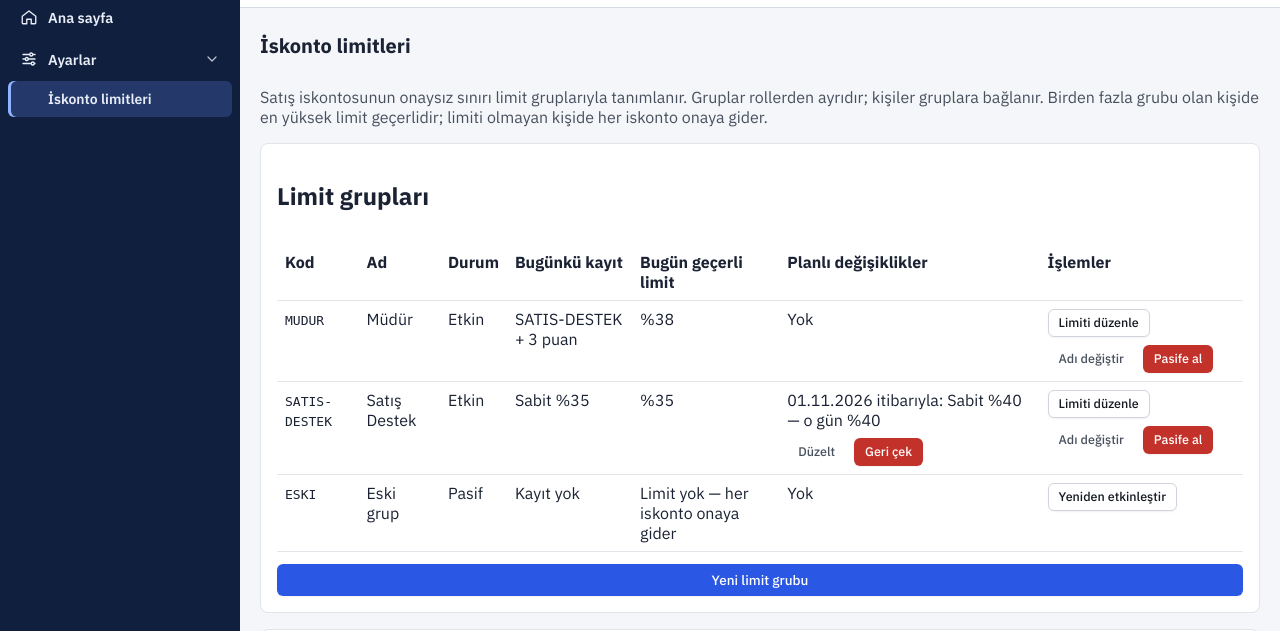
Test case: İskonto limitleri — groups › records a linked limit (group + extra points) with the version as text, and shows a cycle refusal
Expected: the table named "Limit grupları ve limitleri" is shown, [277,244,1243,552]
Click the button "Limiti düzenle" in the row of "Satış Destek": [1099, 404] box [1048,390,1150,418]
(page scrolled)
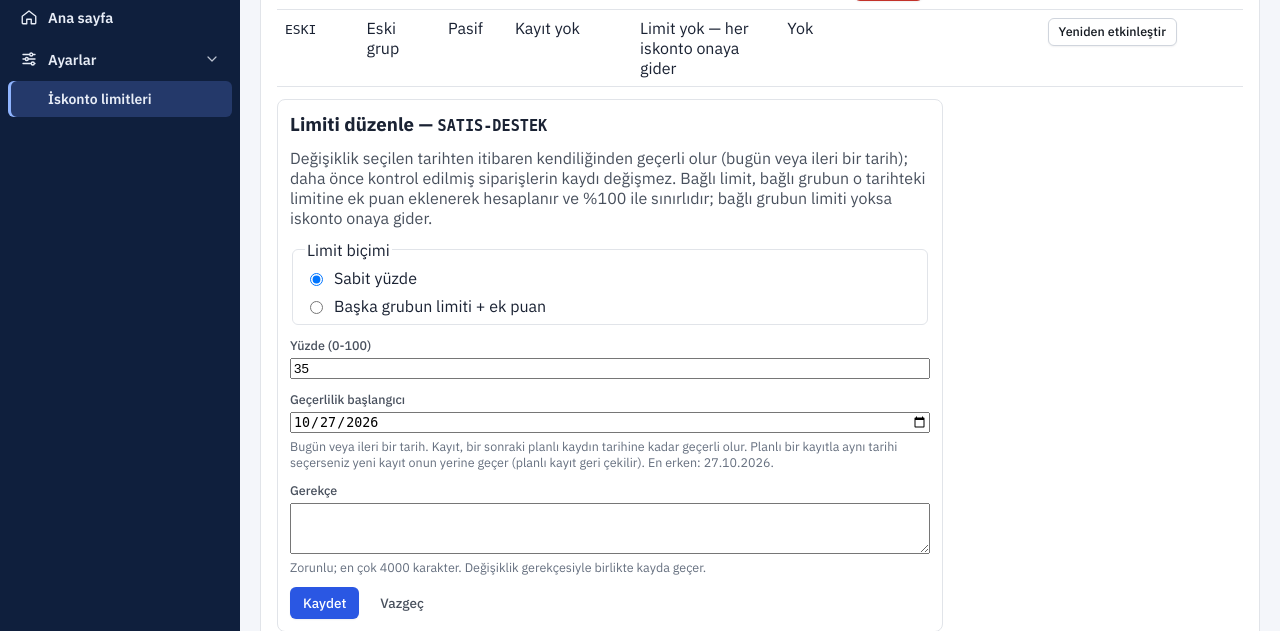
Click the radio button labelled "Başka grubun limiti + ek puan": [316, 307] box [310,301,323,314]
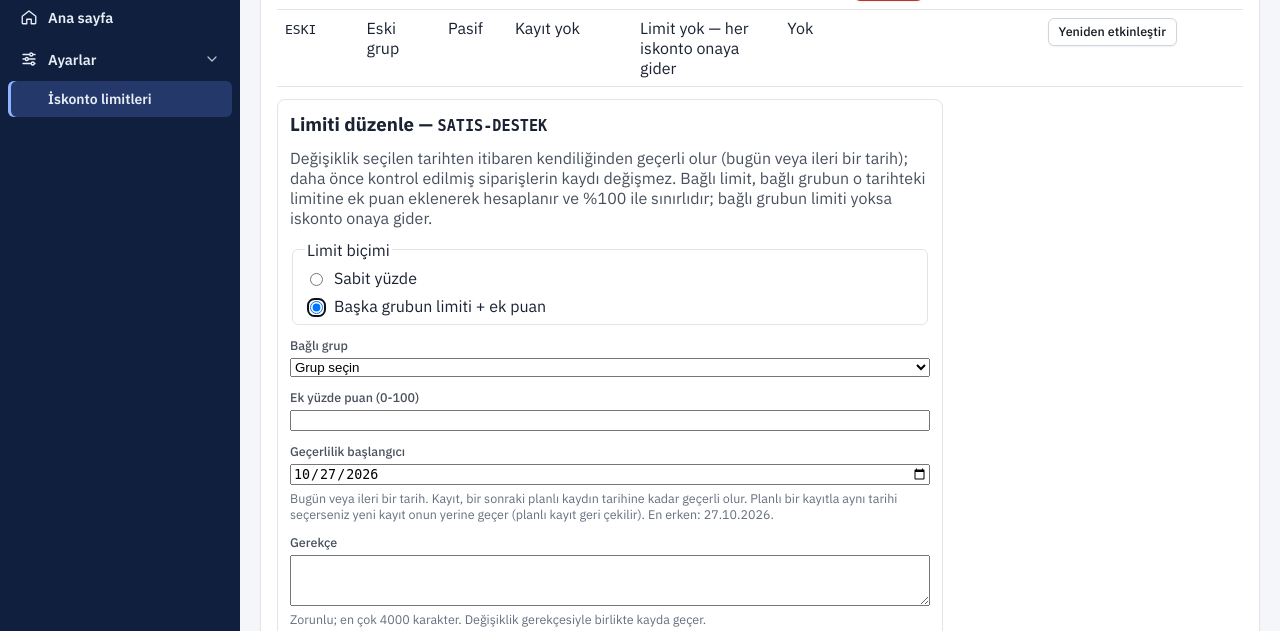
Select "MUDUR — Müdür" in the dropdown labelled "Bağlı grup": [610, 367] box [290,358,930,377]
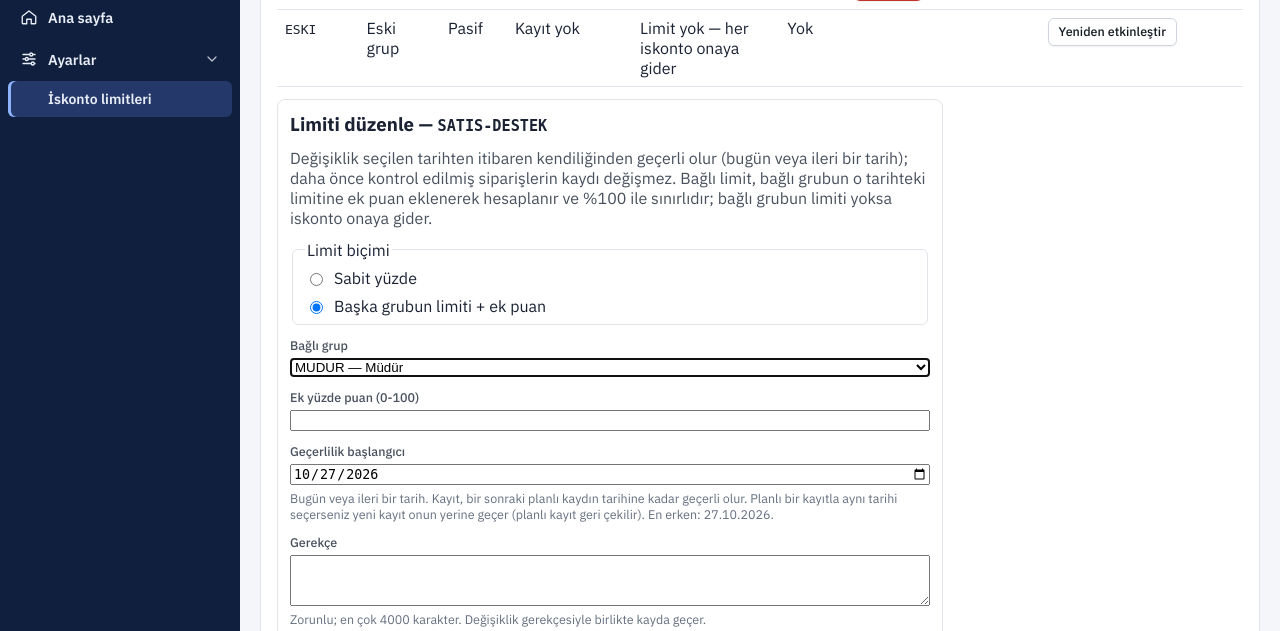
In the field labelled "Ek yüzde puan (0-100)": [610, 420] box [290,410,930,431], type "2.5"
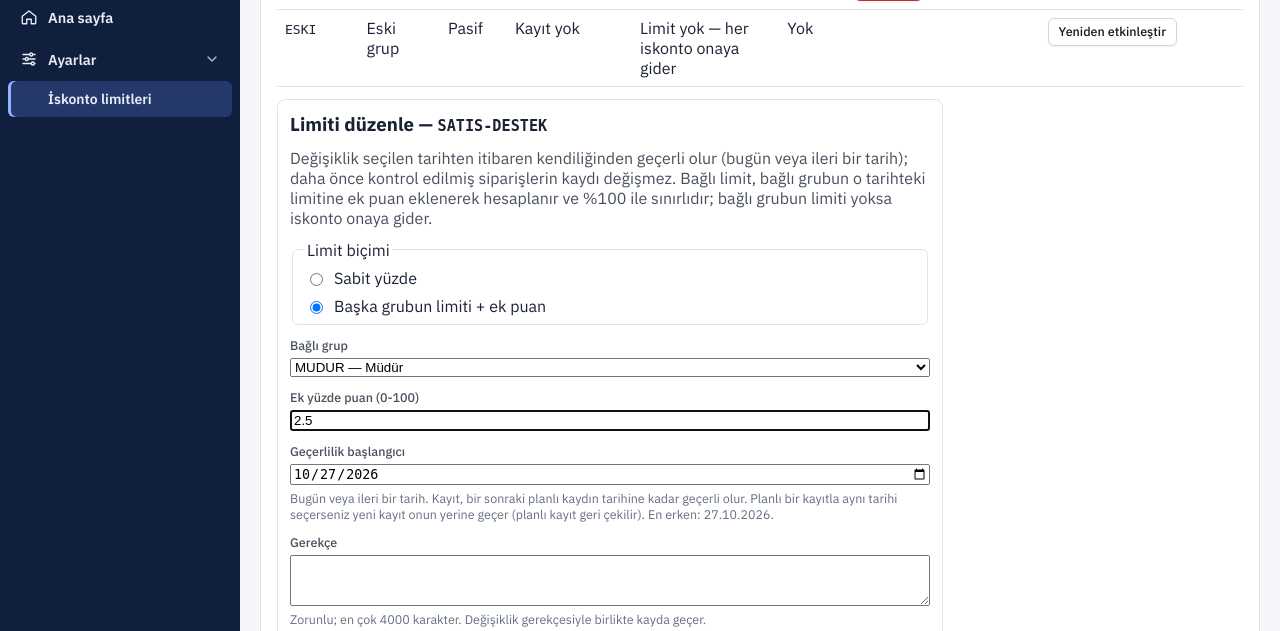
In the text box labelled "Gerekçe": [610, 581] box [290,555,930,606], type "Deneme"
(page scrolled)
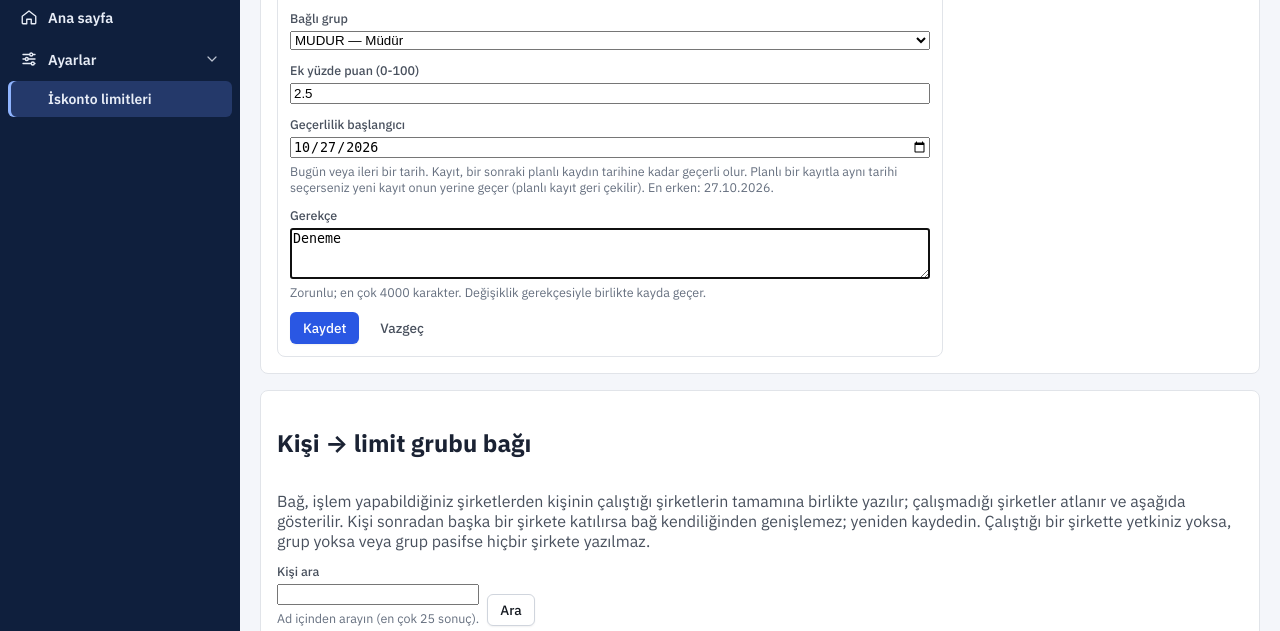
Click the button "Kaydet": [325, 328] box [290,312,359,344]
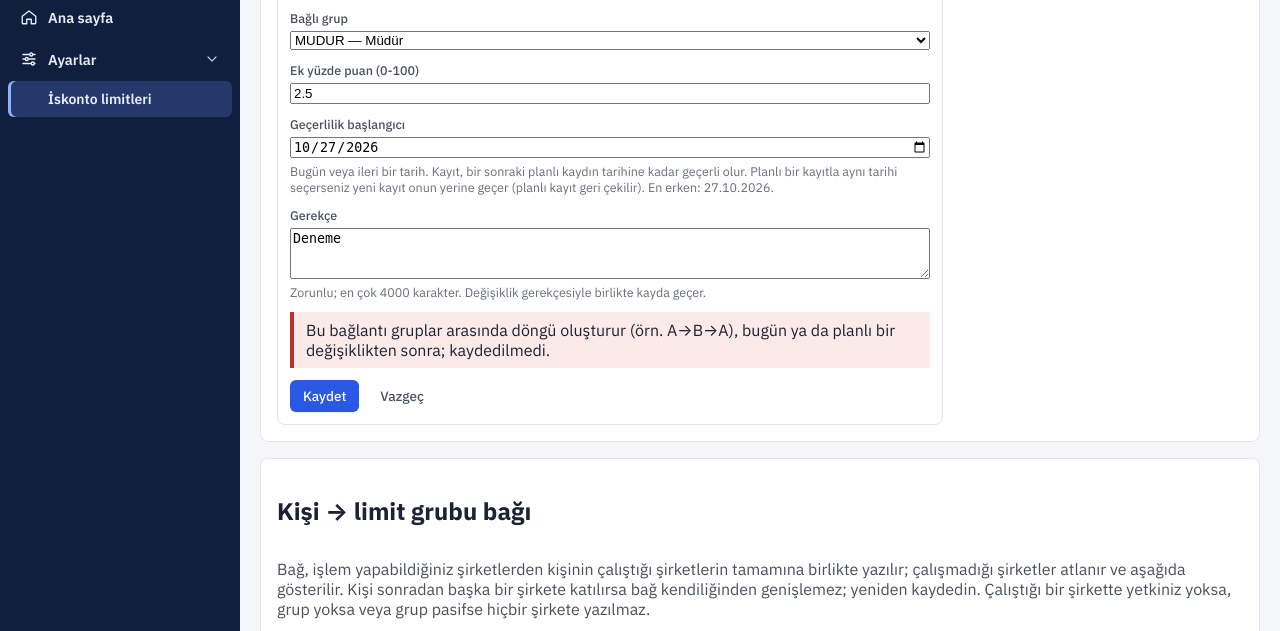
Result: the message shows "döngü" at [306,320,895,360]
